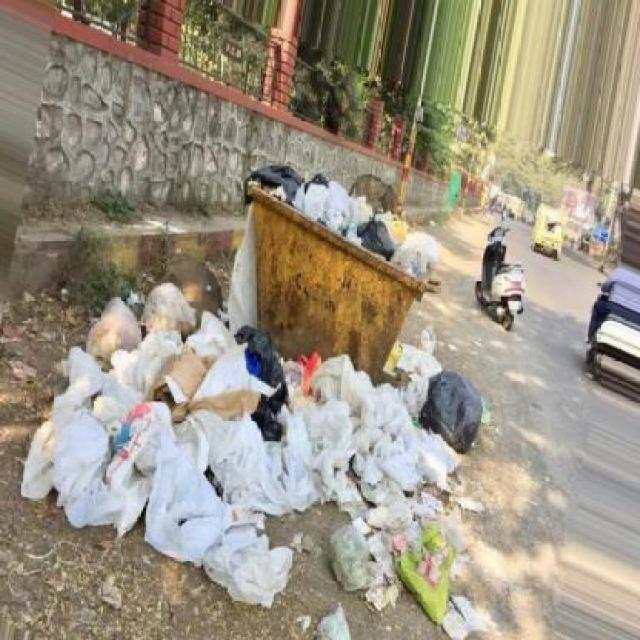garbage: (6, 282, 494, 635), (238, 156, 434, 277)
